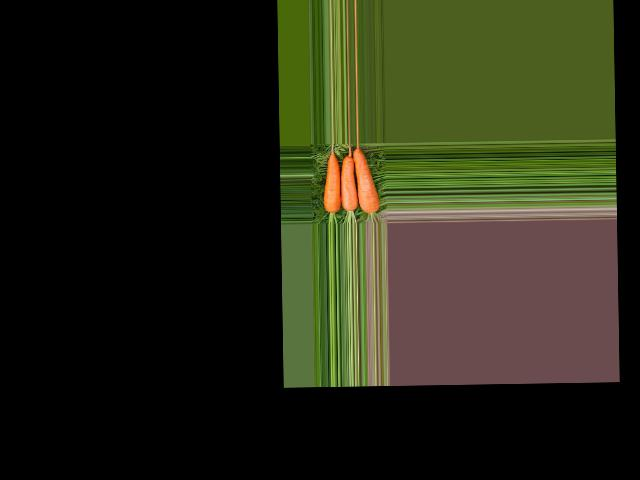carrot: (352, 147, 380, 214)
